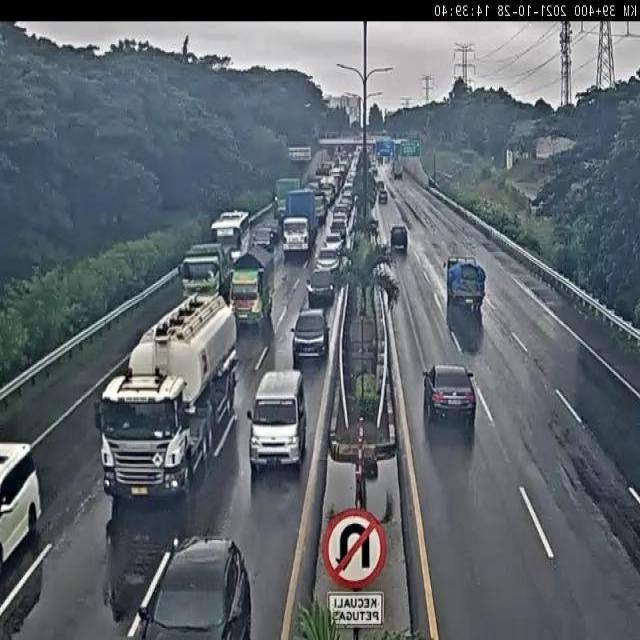Bus: (208, 208, 252, 260)
Car: (140, 531, 256, 640), (0, 438, 46, 568), (420, 364, 478, 426), (289, 305, 332, 361), (304, 266, 338, 306), (315, 246, 342, 270), (252, 226, 274, 250), (389, 225, 409, 250), (262, 217, 282, 239), (324, 230, 346, 250), (330, 220, 348, 233), (378, 190, 388, 203), (377, 180, 384, 190)
Truck: (92, 290, 242, 506), (228, 243, 275, 326), (179, 240, 236, 300), (281, 188, 319, 255), (441, 257, 488, 311), (271, 178, 304, 217), (314, 190, 328, 224), (393, 161, 404, 179)
Van: (246, 367, 311, 473)
